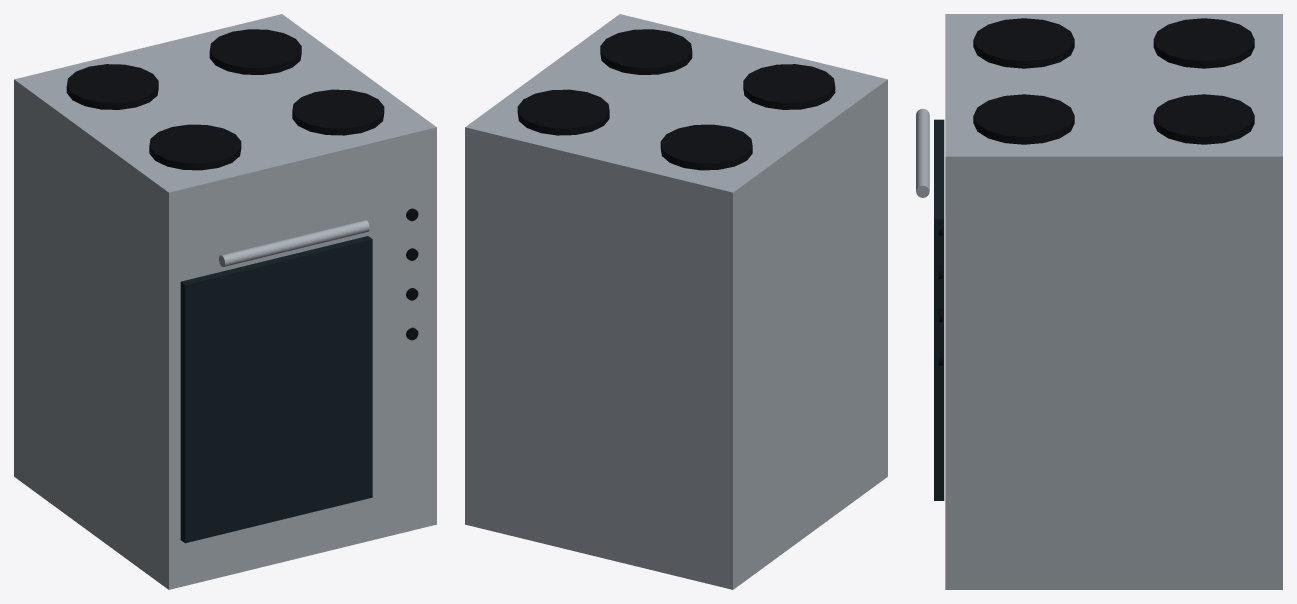
File: Tuzhely_60.obj
The picture shows the model from 3 angles, left to right: view 1: azimuth 30°, elevation 25°; view 2: azimuth 150°, elevation 25°; view 3: azimuth 270°, elevation 25°; orthographic projection. The views are drawn at different scales.
Size of the model in its own units: 0.6 by 0.865 by 0.652.
